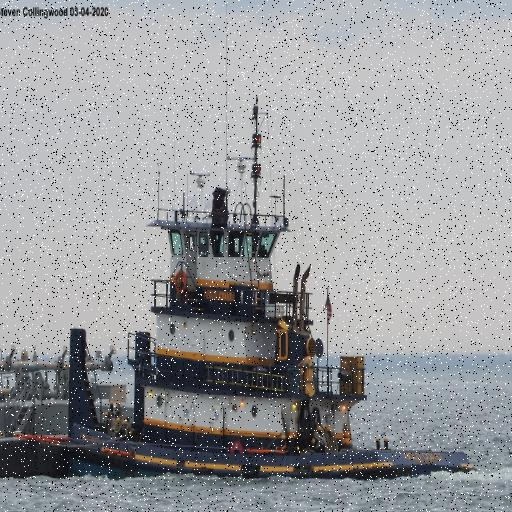tugboat: (66, 92, 482, 494)
